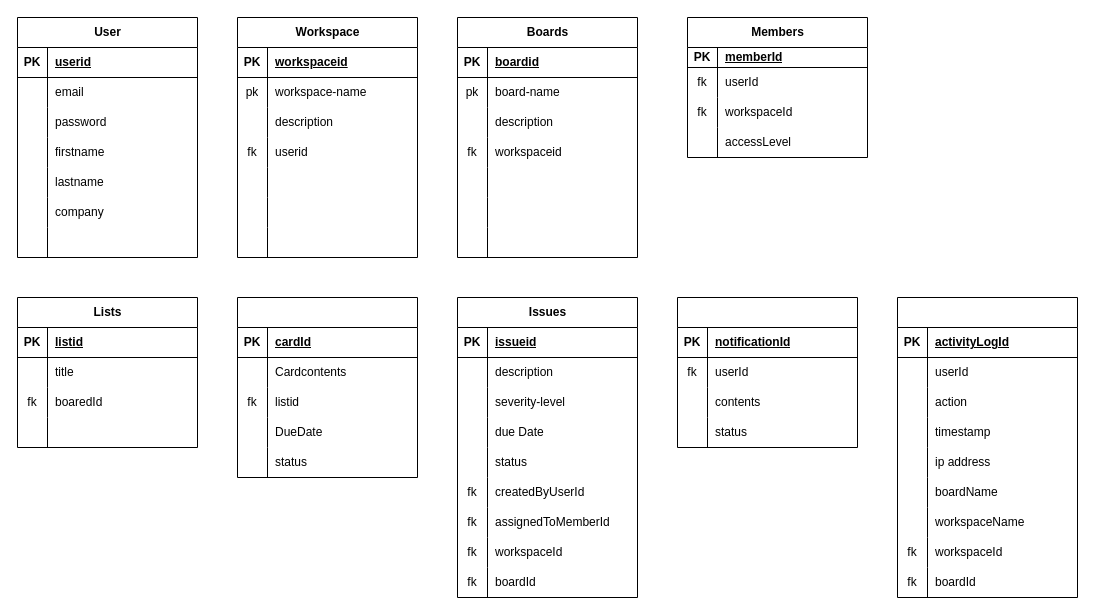
This 1095x615 diagram has some shape labels left out. The shapes that lost their labels are listed below. From the top down, each one's box as (x1, y1, x2, y2) in pixels, then its label:
(236, 296, 418, 478): Cards
(676, 296, 858, 448): Notifications
(896, 296, 1078, 598): User Activity Log
